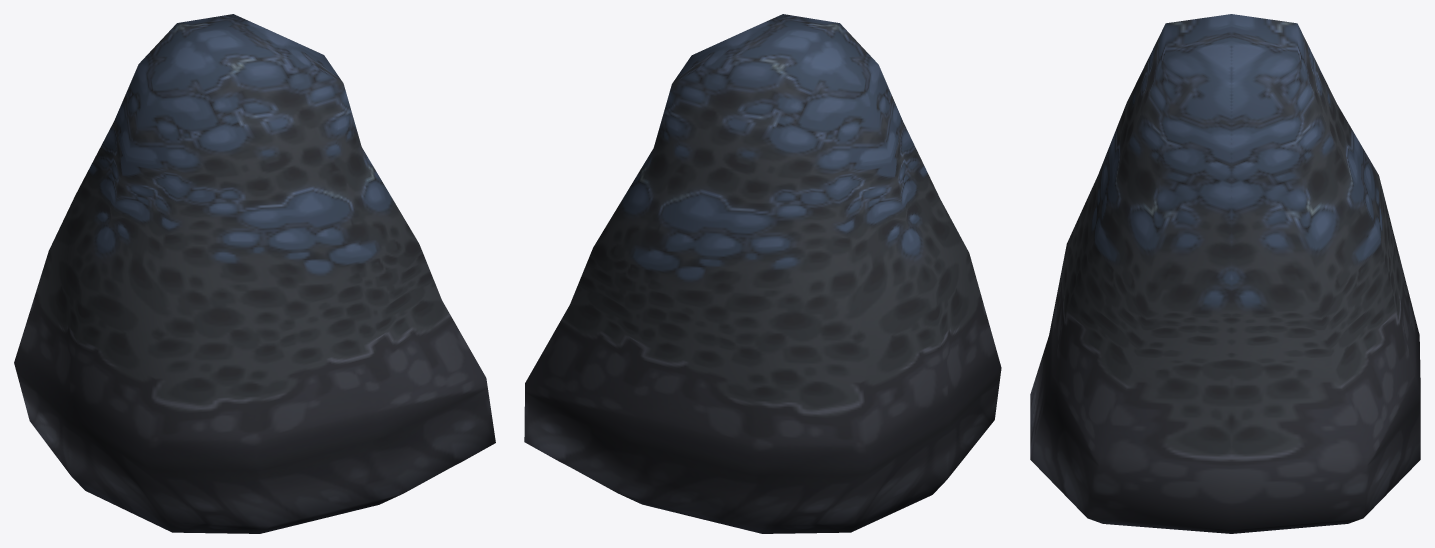
Rendered from Rock_05c.FBX.
The picture shows the model from 3 angles, left to right: view 1: azimuth 30°, elevation 25°; view 2: azimuth 150°, elevation 25°; view 3: azimuth 270°, elevation 25°; orthographic projection.
Parts seen in each view (by area): view 1: Rock_05c; view 2: Rock_05c; view 3: Rock_05c.
Boxes of the visible parts, x1,y1,x2,y2 form: Rock_05c: (14,14,495,533); Rock_05c: (524,14,1001,533); Rock_05c: (1030,14,1420,533).
Size of the model in its own units: 29.78 by 31.64 by 26.72.
